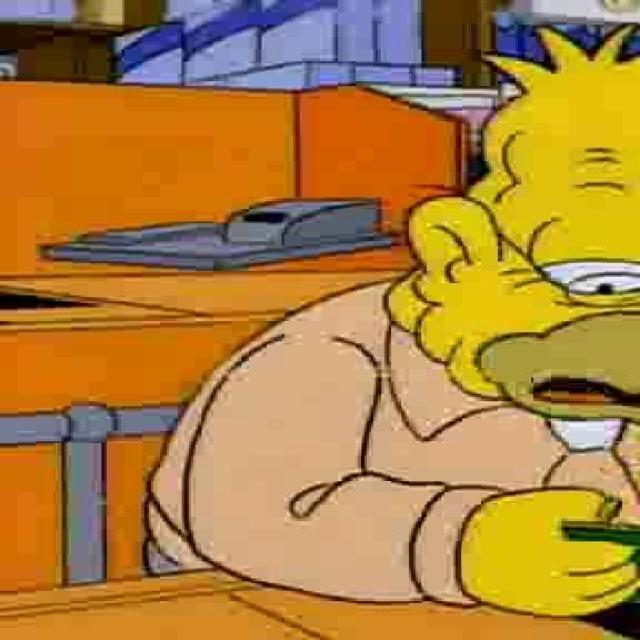Abraham Grampa Simpson: (384, 22, 640, 430)
